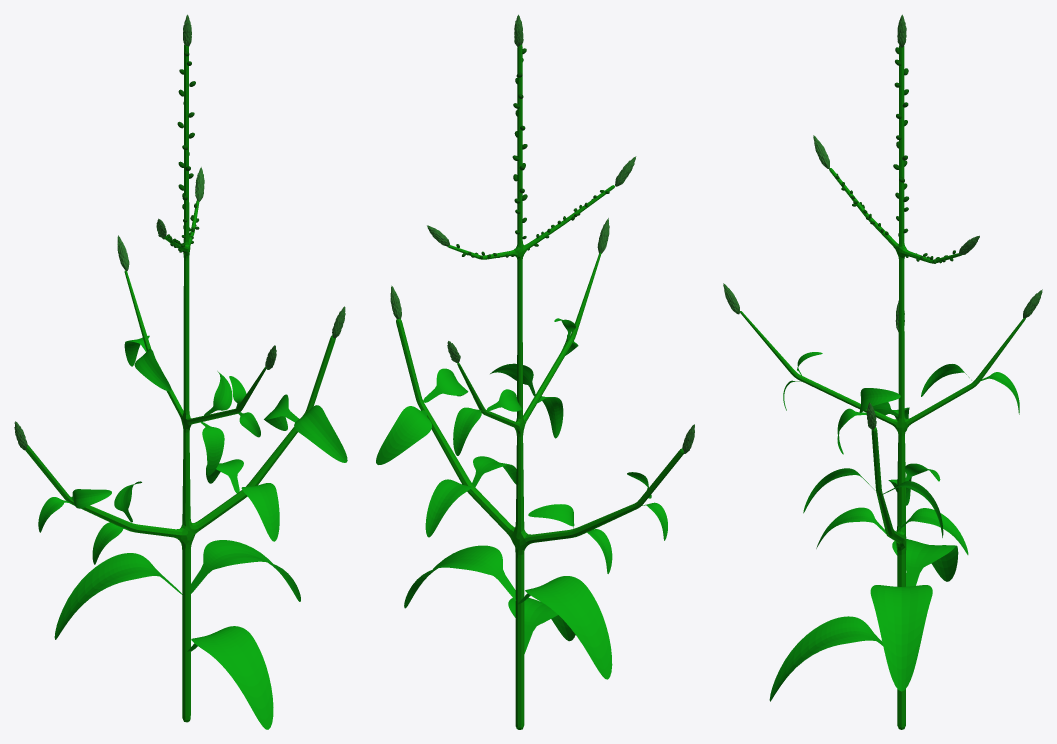
Rendered from Stage3_Verbena_1.fbx.
3 views of the same model, side by side, from view 1: azimuth 30°, elevation 25°; view 2: azimuth 150°, elevation 25°; view 3: azimuth 270°, elevation 25° (orthographic).
Visible parts, largest first — view 1: Leaves, Plane, Bulbs_small; view 2: Leaves, Plane, Bulbs_small; view 3: Leaves, Plane, Bulbs_small.
Part boxes in pixels (box(x1,y1,x2,y2)): Leaves: box(38, 335, 347, 729); Plane: box(25, 44, 335, 722); Bulbs_small: box(162, 51, 199, 252); Leaves: box(376, 318, 667, 679); Plane: box(396, 44, 683, 729); Bulbs_small: box(456, 48, 609, 258); Leaves: box(769, 352, 1019, 701); Plane: box(740, 45, 1025, 729); Bulbs_small: box(835, 47, 955, 263).
Bounding box in the file's own units: 842 × 1806 × 730.
